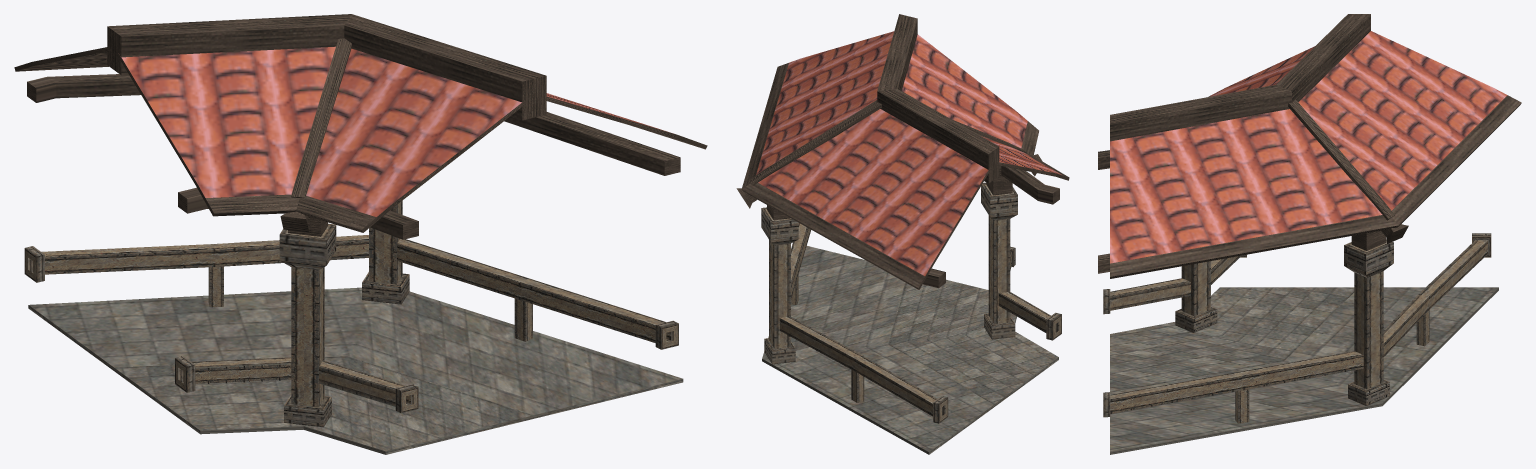
The model's file is corredorjpcurva.fbx.
The picture shows the model from 3 angles, left to right: view 1: azimuth 30°, elevation 25°; view 2: azimuth 150°, elevation 25°; view 3: azimuth 270°, elevation 25°; orthographic projection. The views are drawn at different scales.
Parts seen in each view (by area): view 1: Cube.001; view 2: Cube.001; view 3: Cube.001.
Part boxes in pixels (x1,y1,x2,y2): Cube.001: (14, 14, 707, 454); Cube.001: (736, 14, 1069, 454); Cube.001: (1098, 14, 1521, 454).
Size of the model in its own units: 4.21 by 3.08 by 4.24.
